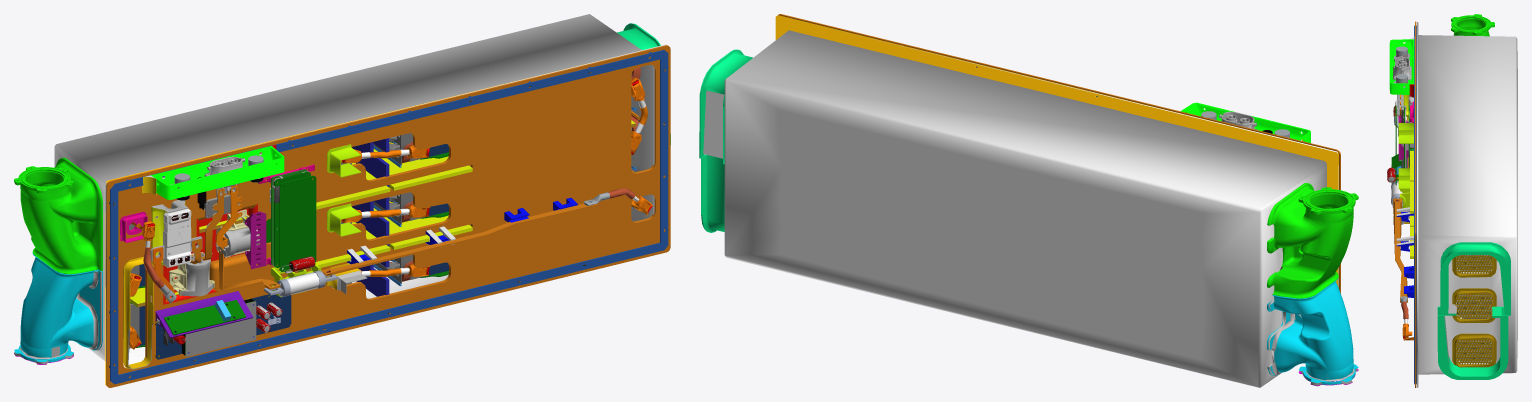
File: pack.glb
3 views of the same model, side by side, from view 1: azimuth 30°, elevation 25°; view 2: azimuth 150°, elevation 25°; view 3: azimuth 270°, elevation 25° (orthographic). The views are drawn at different scales.
Visible parts, largest first — view 1: pdu, tsac, duct, links; view 2: tsac, duct, pdu; view 3: tsac, duct, pdu, m4_shellA, m3_shellA, m5_shellA.
Boxes of the visible parts, x1,y1,x2,y2 form: pdu: (106, 45, 670, 387); tsac: (54, 14, 667, 385); duct: (14, 23, 670, 364); links: (129, 77, 648, 349); tsac: (724, 15, 1338, 387); duct: (699, 49, 1358, 386); pdu: (778, 14, 1340, 293); tsac: (1410, 22, 1517, 387); duct: (1437, 14, 1510, 379); pdu: (1387, 21, 1416, 387); m4_shellA: (1457, 293, 1491, 318); m3_shellA: (1457, 338, 1491, 361); m5_shellA: (1457, 255, 1491, 270).
Bounding box in the file's own units: 1.04 × 0.3263 × 0.2443.
